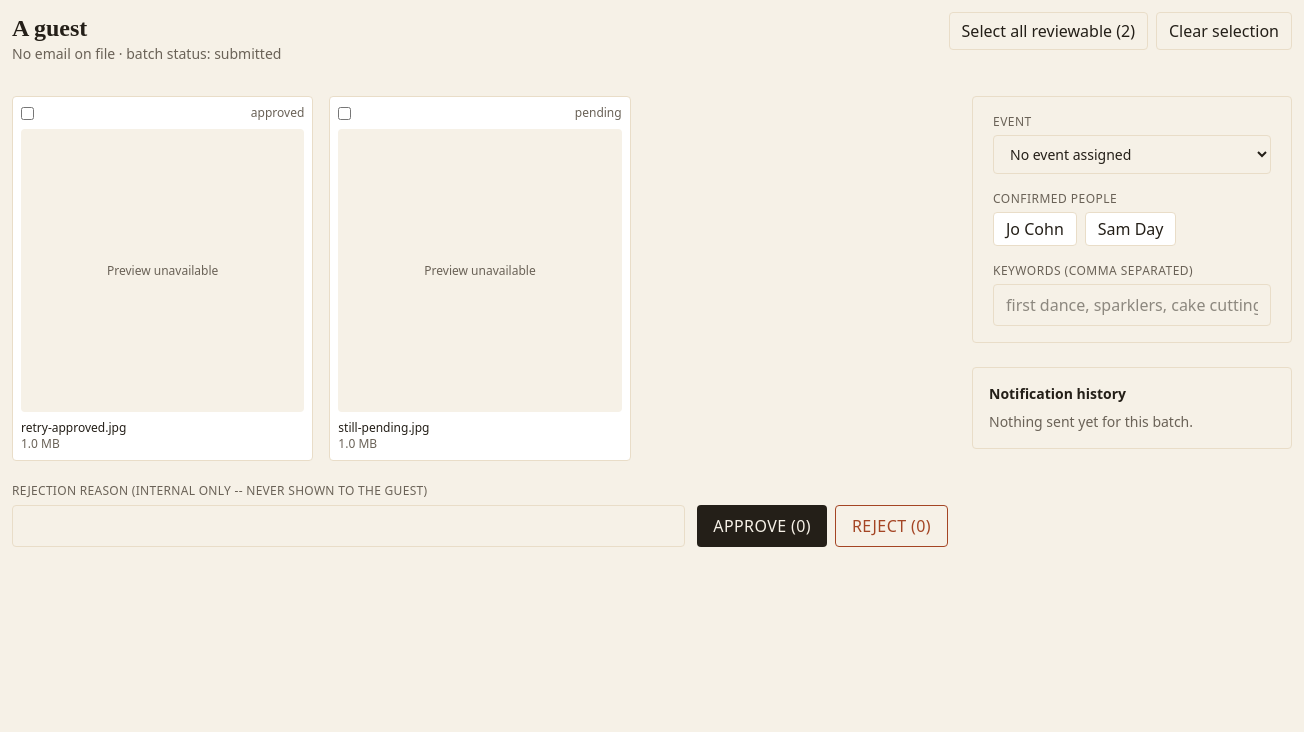
Test: BatchReviewer wiring › filters an approved retry out of a mixed Reject action
What coordinates should you click on to do the following:
click the checkbox labelled "approved Preview unavailable retry-approved.jpg 1.0 MB"
I would click on:
 (28, 113)
Its box is [21, 106, 34, 120].
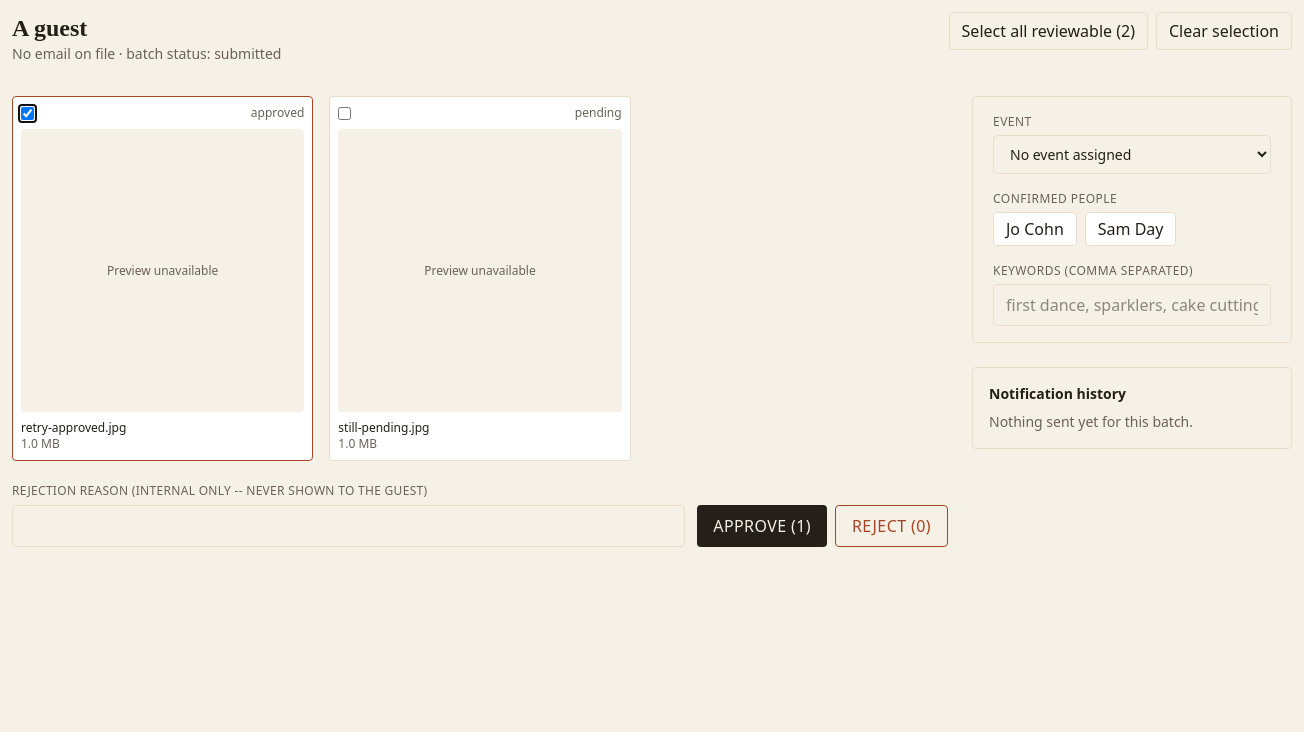
What coordinates should you click on to do the following:
click the checkbox labelled "pending Preview unavailable still-pending.jpg 1.0 MB"
I would click on:
 (345, 113)
Its box is [338, 106, 351, 120].
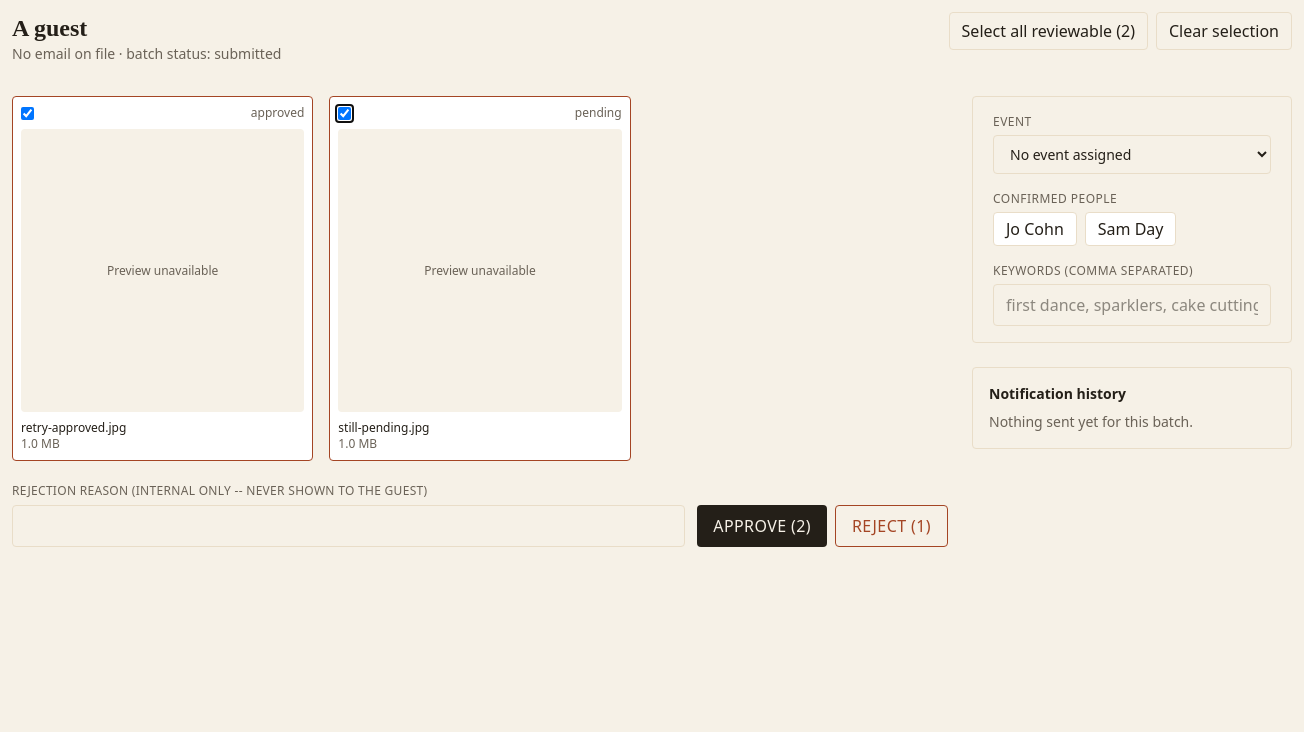
What coordinates should you click on to do the following:
click the button "Reject (1)"
I would click on:
 (892, 526)
Its box is [835, 505, 948, 547].
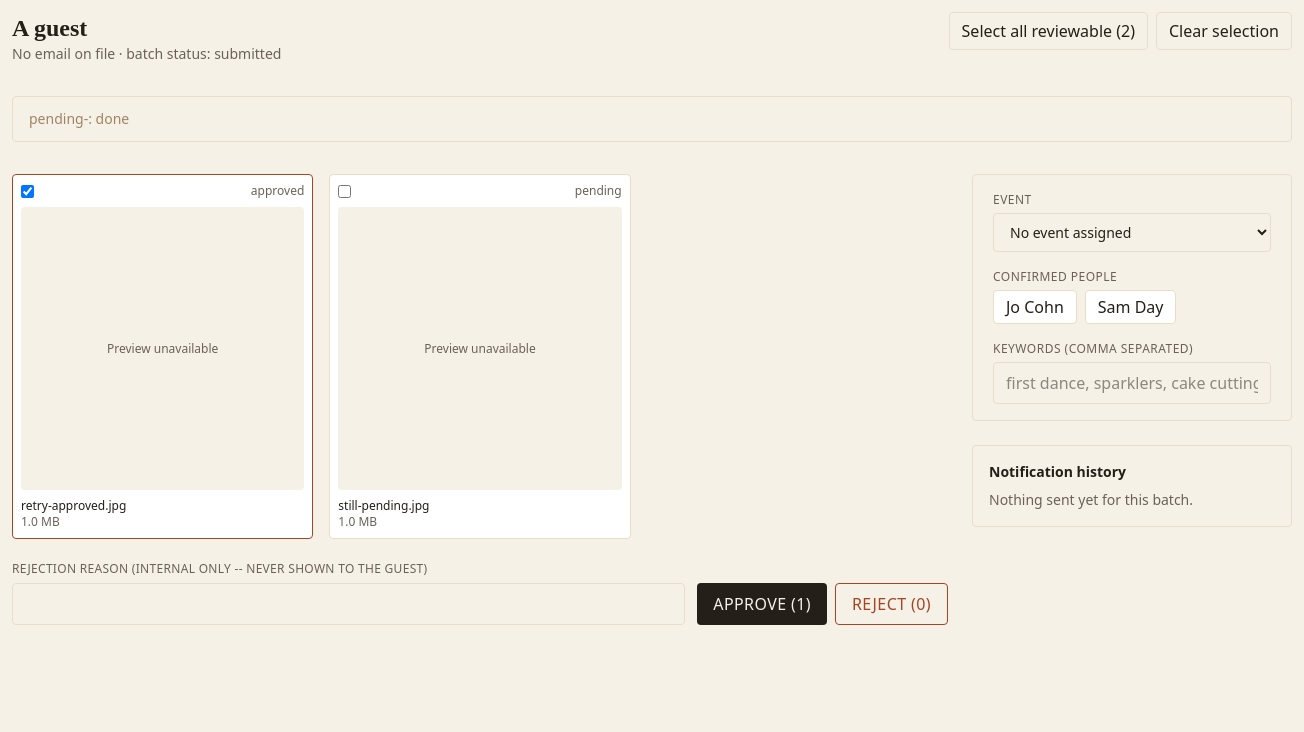
Expected: the button "Approve (1)" is shown, [697, 583, 827, 625]
